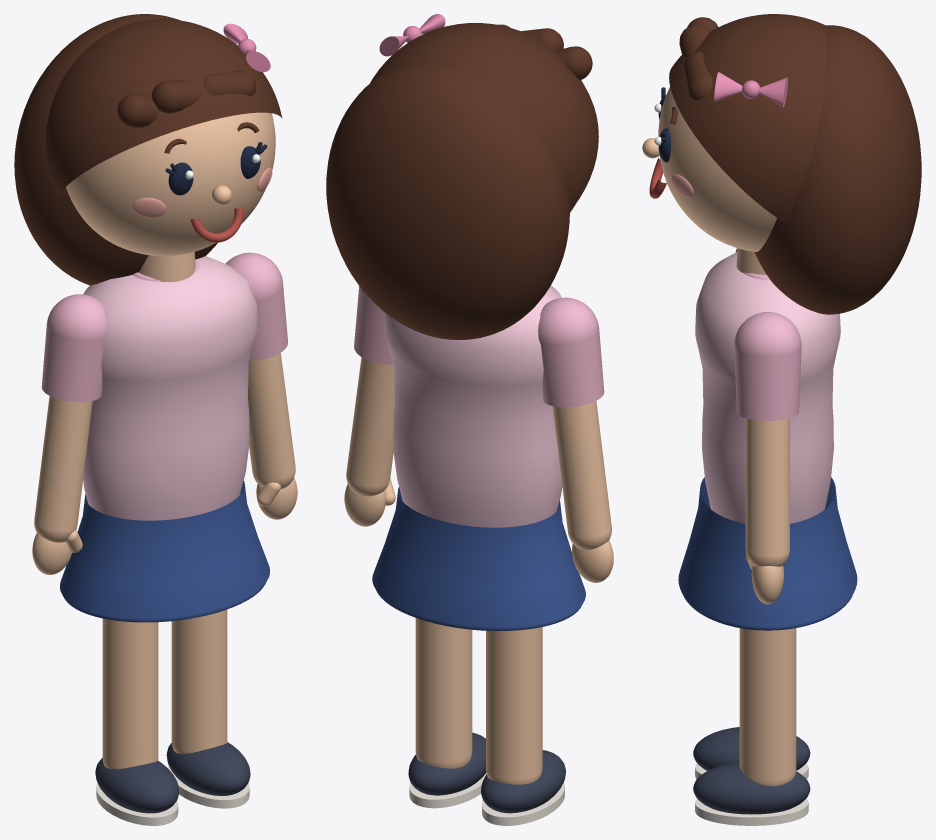
File: boneco-provisorio-menina.glb
3 views of the same model, side by side, from view 1: azimuth 30°, elevation 25°; view 2: azimuth 150°, elevation 25°; view 3: azimuth 270°, elevation 25° (orthographic).
Visible parts, largest first — view 1: fixo_detalhe (×8), regiao_pernas, regiao_peito, regiao_bracos, regiao_cabeca, regiao_barriga, regiao_pes, regiao_maos, regiao_garganta; view 2: fixo_detalhe (×4), regiao_pernas, regiao_bracos, regiao_barriga, regiao_peito, regiao_pes, regiao_maos; view 3: fixo_detalhe (×6), regiao_pernas, regiao_bracos, regiao_peito, regiao_barriga, regiao_cabeca, regiao_pes, regiao_maos, regiao_garganta.
Part boxes in pixels (x1=…): fixo_detalhe (×8): x1=14, y1=14, x2=282, y2=285; regiao_pernas: x1=60, y1=480, x2=269, y2=769; regiao_peito: x1=83, y1=256, x2=258, y2=417; regiao_bracos: x1=34, y1=252, x2=295, y2=542; regiao_cabeca: x1=66, y1=112, x2=275, y2=256; regiao_barriga: x1=83, y1=382, x2=249, y2=520; regiao_pes: x1=95, y1=742, x2=250, y2=825; regiao_maos: x1=32, y1=477, x2=297, y2=574; regiao_garganta: x1=139, y1=252, x2=195, y2=282; fixo_detalhe (×4): x1=326, y1=23, x2=598, y2=339; regiao_pernas: x1=372, y1=487, x2=585, y2=784; regiao_bracos: x1=346, y1=286, x2=611, y2=549; regiao_barriga: x1=393, y1=386, x2=562, y2=527; regiao_peito: x1=384, y1=286, x2=561, y2=422; regiao_pes: x1=408, y1=732, x2=565, y2=825; regiao_maos: x1=344, y1=479, x2=613, y2=582; fixo_detalhe (×6): x1=669, y1=14, x2=921, y2=314; regiao_pernas: x1=678, y1=477, x2=857, y2=786; regiao_bracos: x1=734, y1=248, x2=801, y2=566; regiao_peito: x1=695, y1=252, x2=840, y2=421; regiao_barriga: x1=702, y1=387, x2=833, y2=523; regiao_cabeca: x1=642, y1=86, x2=776, y2=251; regiao_pes: x1=693, y1=727, x2=810, y2=825; regiao_maos: x1=746, y1=554, x2=783, y2=604; regiao_garganta: x1=736, y1=248, x2=766, y2=274.
Size of the model in its own units: 1.14 by 3.14 by 1.04.
